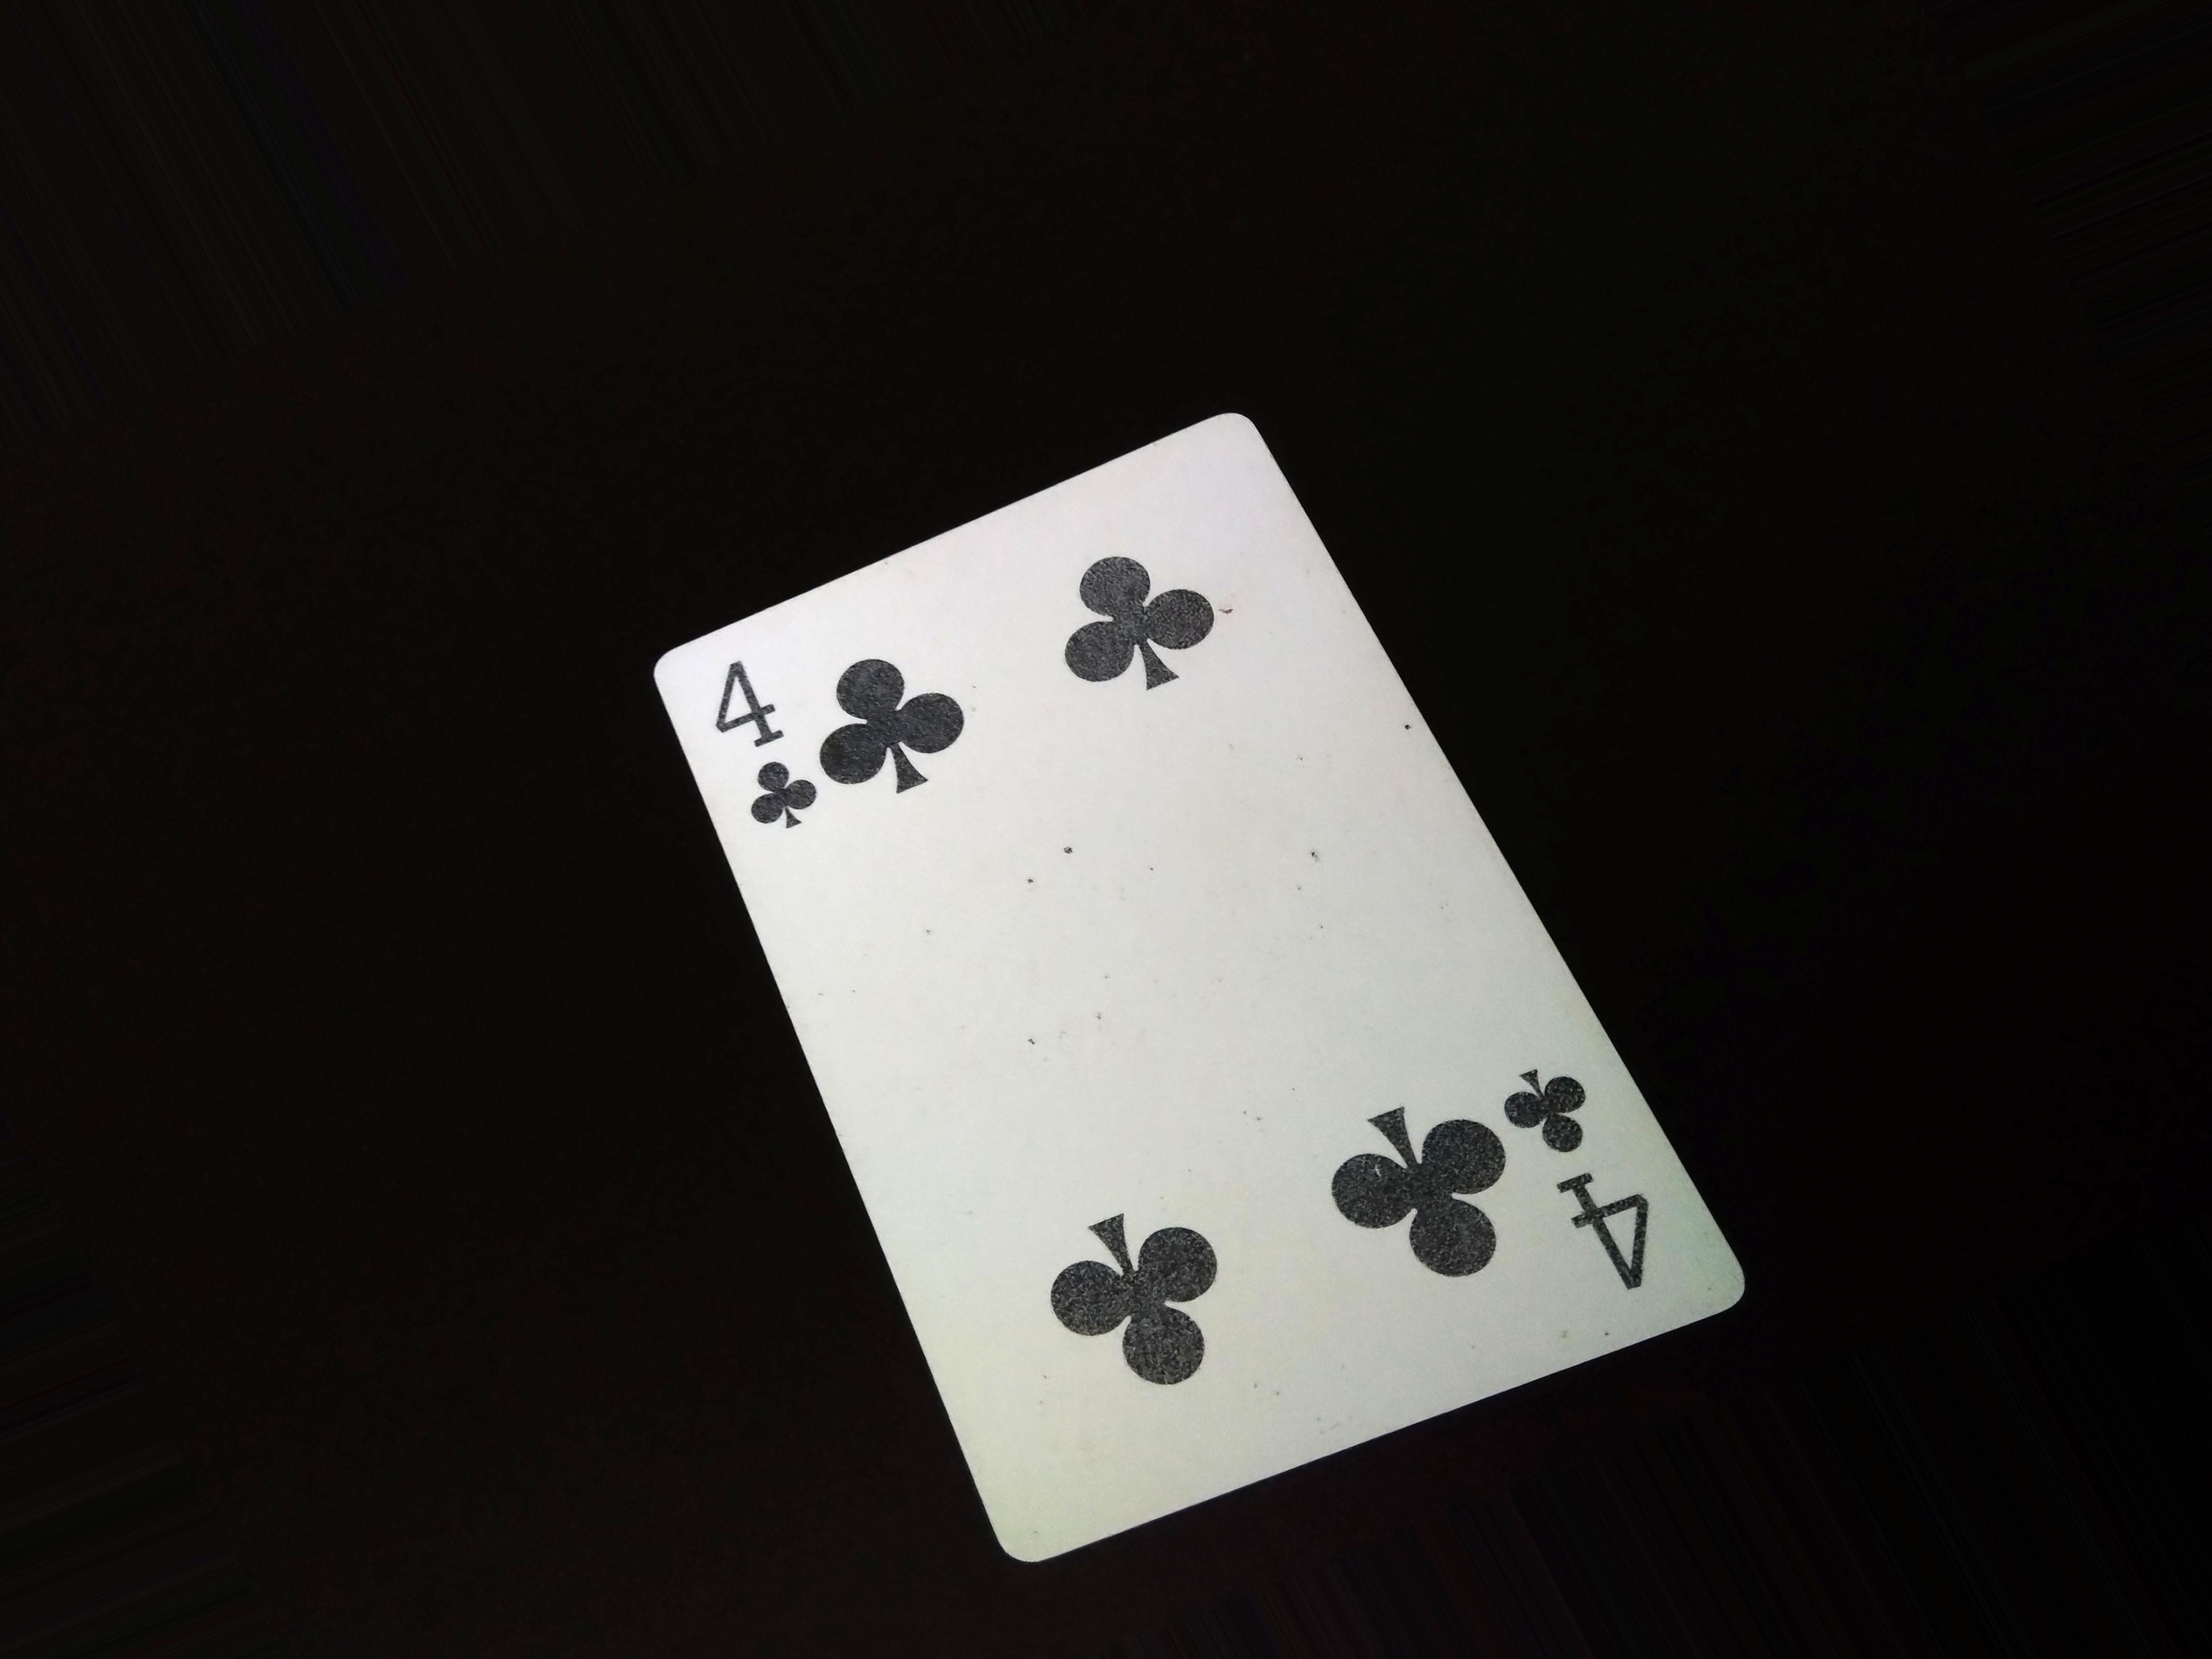4C: (702, 662, 822, 863)
